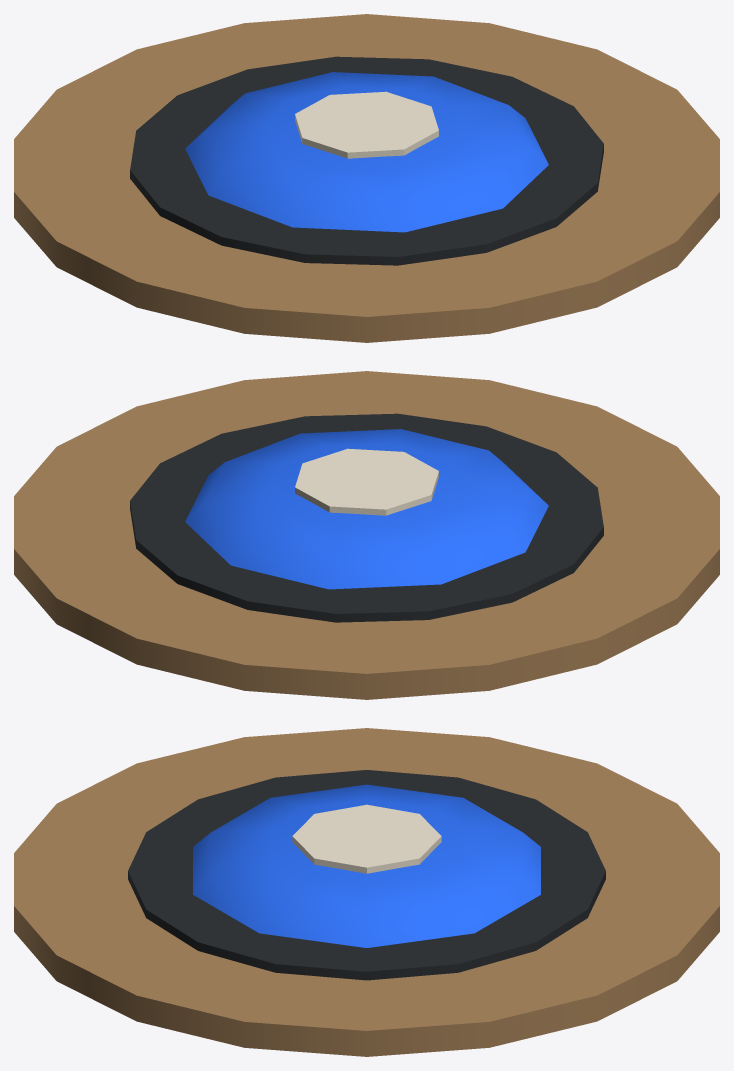
Rendered from mine.glb.
The picture shows the model from 3 angles, top to bottom: view 1: azimuth 30°, elevation 25°; view 2: azimuth 150°, elevation 25°; view 3: azimuth 270°, elevation 25°; orthographic projection.
Parts seen in each view (by area): view 1: mine__M_Kraft, ml_mine__M_Team, mine__M_Dark, ml_mine__M_CreamPlastic; view 2: mine__M_Kraft, ml_mine__M_Team, mine__M_Dark, ml_mine__M_CreamPlastic; view 3: mine__M_Kraft, ml_mine__M_Team, mine__M_Dark, ml_mine__M_CreamPlastic.
Boxes of the visible parts, bbox=[...] form: mine__M_Kraft: bbox=[14, 14, 719, 342]; ml_mine__M_Team: bbox=[185, 72, 548, 232]; mine__M_Dark: bbox=[130, 56, 603, 265]; ml_mine__M_CreamPlastic: bbox=[295, 91, 438, 158]; mine__M_Kraft: bbox=[14, 371, 719, 699]; ml_mine__M_Team: bbox=[185, 429, 548, 589]; mine__M_Dark: bbox=[130, 413, 603, 622]; ml_mine__M_CreamPlastic: bbox=[295, 448, 438, 515]; mine__M_Kraft: bbox=[14, 728, 719, 1056]; ml_mine__M_Team: bbox=[193, 784, 540, 947]; mine__M_Dark: bbox=[128, 770, 605, 980]; ml_mine__M_CreamPlastic: bbox=[292, 804, 441, 873].
Bounding box in the file's own units: 0.3 × 0.032 × 0.2954.
